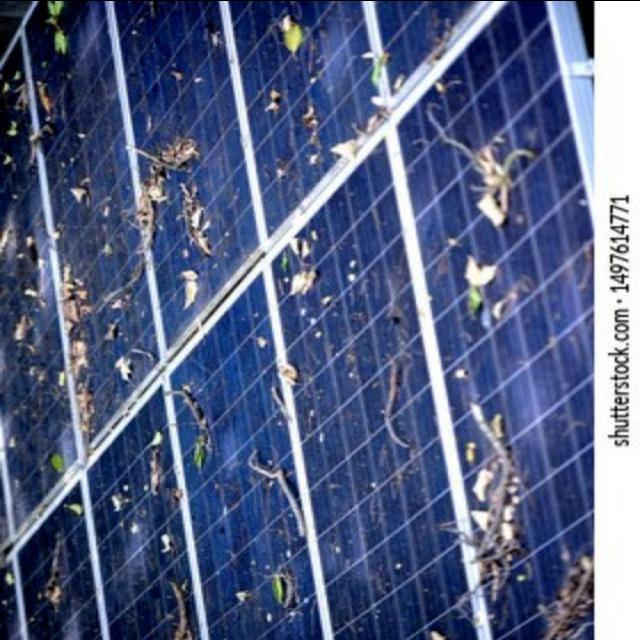soiled: (3, 0, 596, 637)
